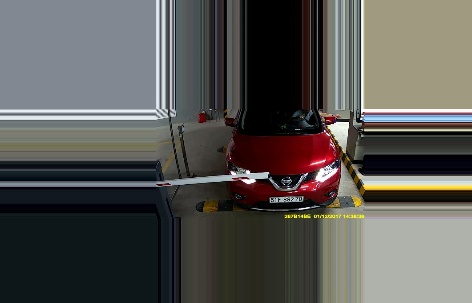plate: (268, 193, 305, 206)
